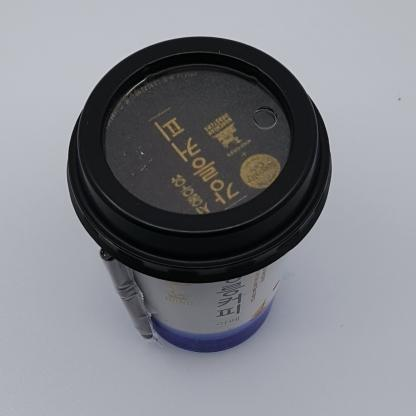----------250ML: (66, 36, 332, 353)
